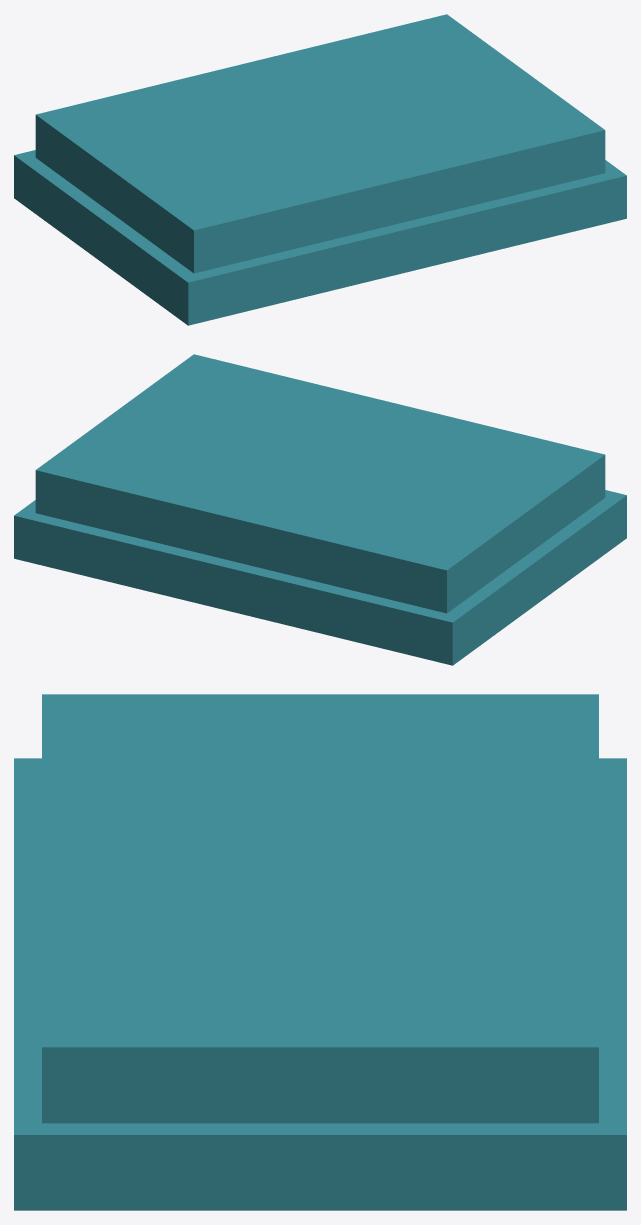
File: bb_set_towel.fbx
The picture shows the model from 3 angles, top to bottom: view 1: azimuth 30°, elevation 25°; view 2: azimuth 150°, elevation 25°; view 3: azimuth 270°, elevation 25°; orthographic projection. The views are drawn at different scales.
Visible parts, largest first — view 1: bb_set_towel; view 2: bb_set_towel; view 3: bb_set_towel.
Boxes of the visible parts, x1=… form: bb_set_towel: x1=14, y1=14, x2=626, y2=325; bb_set_towel: x1=14, y1=354, x2=626, y2=665; bb_set_towel: x1=14, y1=694, x2=626, y2=1210.
Bounding box in the file's own units: 0.32 × 0.06 × 0.22.
